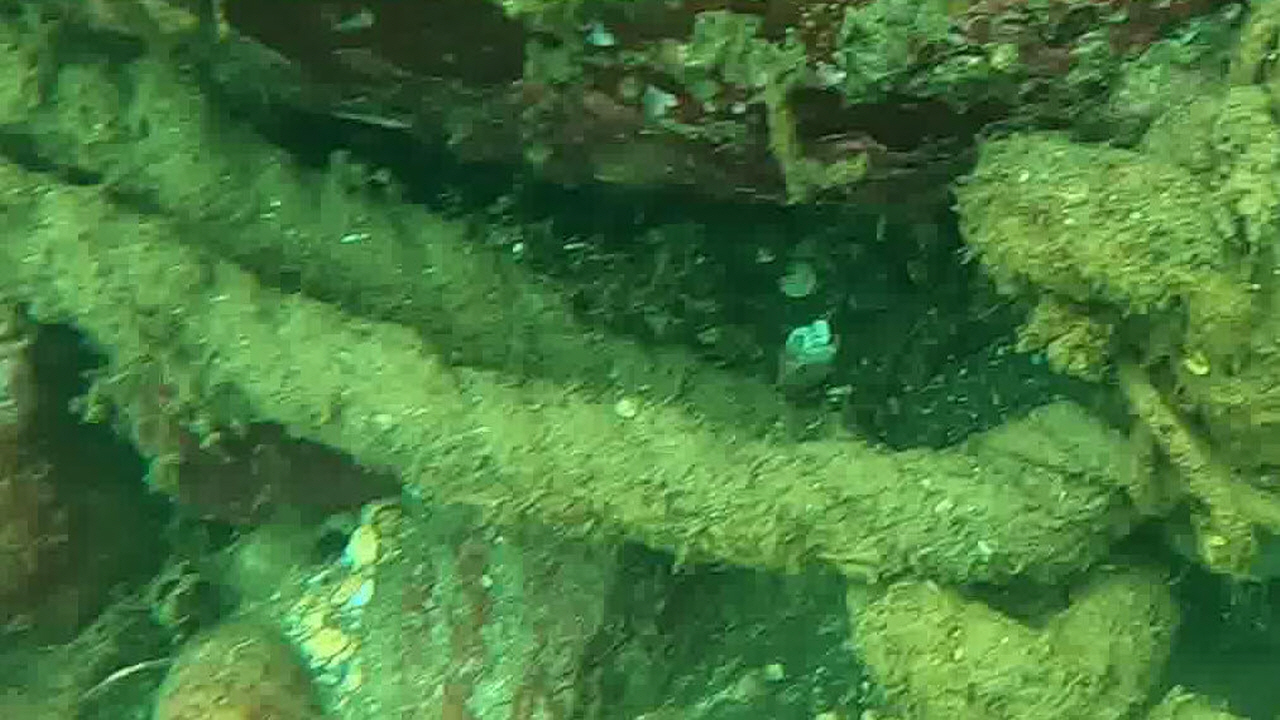bundle of ropes: (1, 42, 1179, 720)
